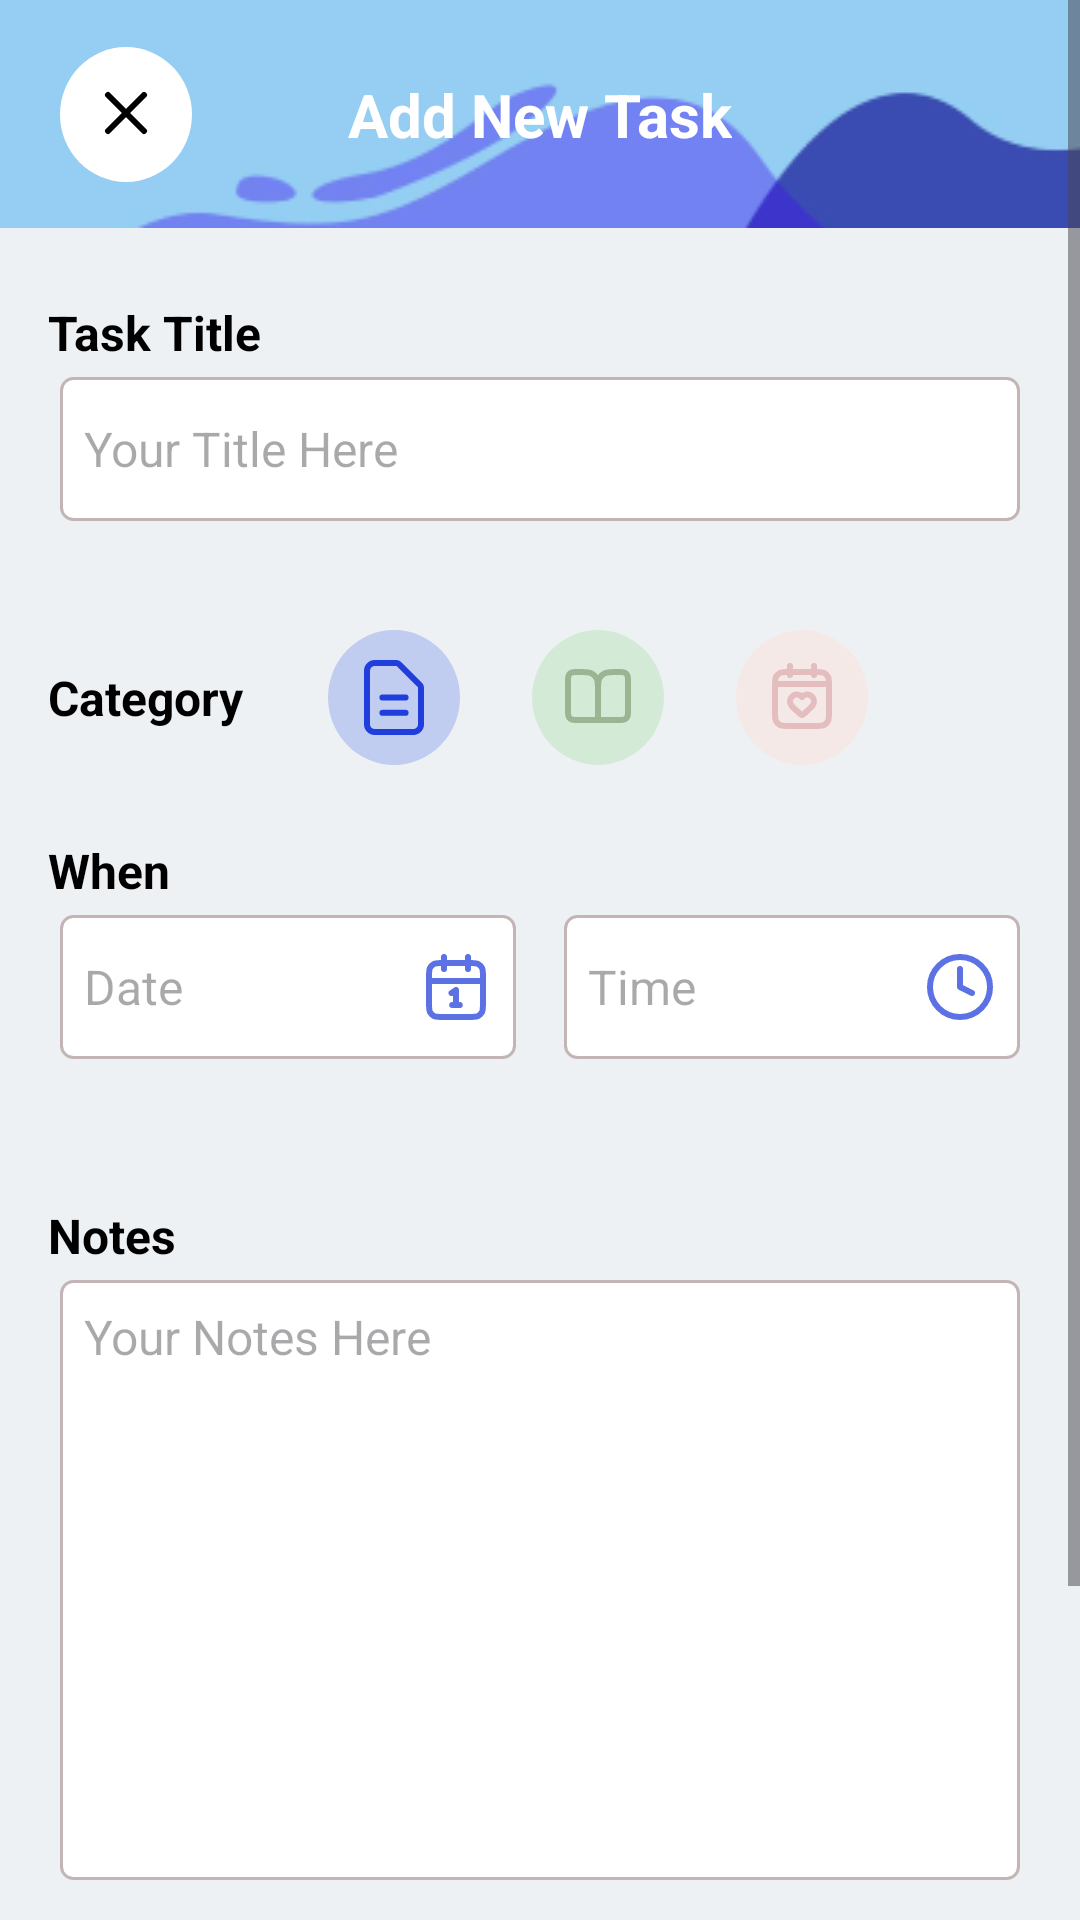

Screen size 1080w x 1920h. Icon name, then its box in pixels as (x1, y1, x2, y2):
book: (532, 630, 664, 765)
event: (772, 663, 832, 729)
